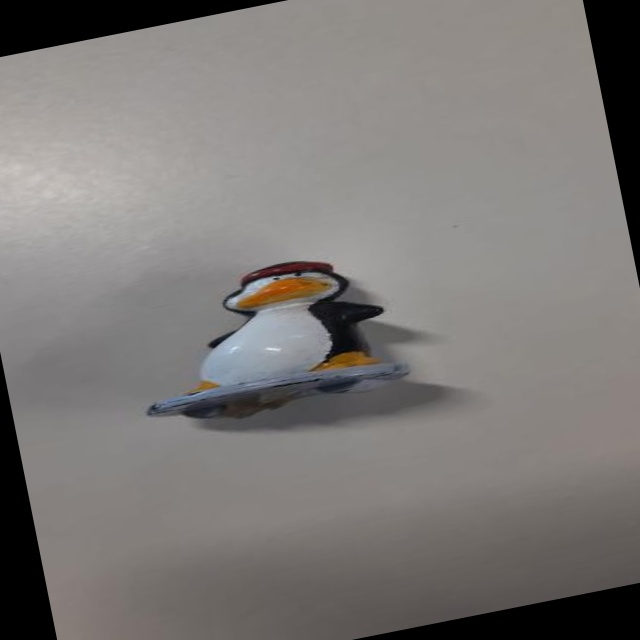Penguin: (133, 236, 414, 434)
